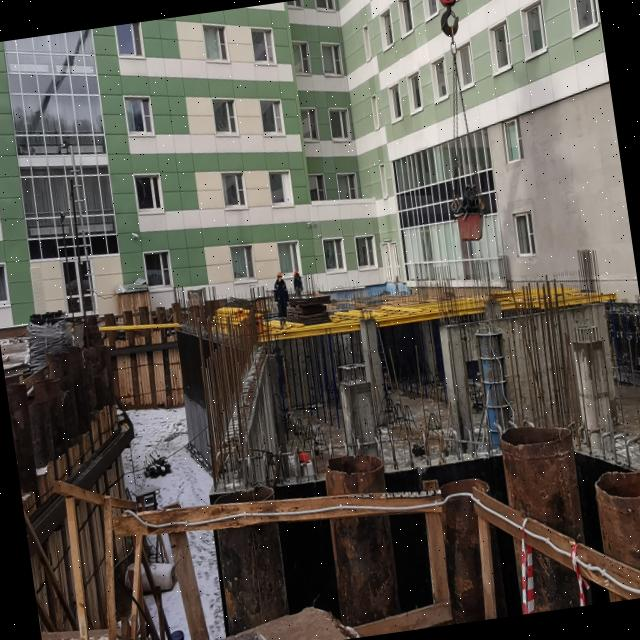Helmet: (277, 273, 284, 282), (295, 271, 299, 278)
NoJacket: (275, 280, 289, 307), (295, 276, 303, 289)
